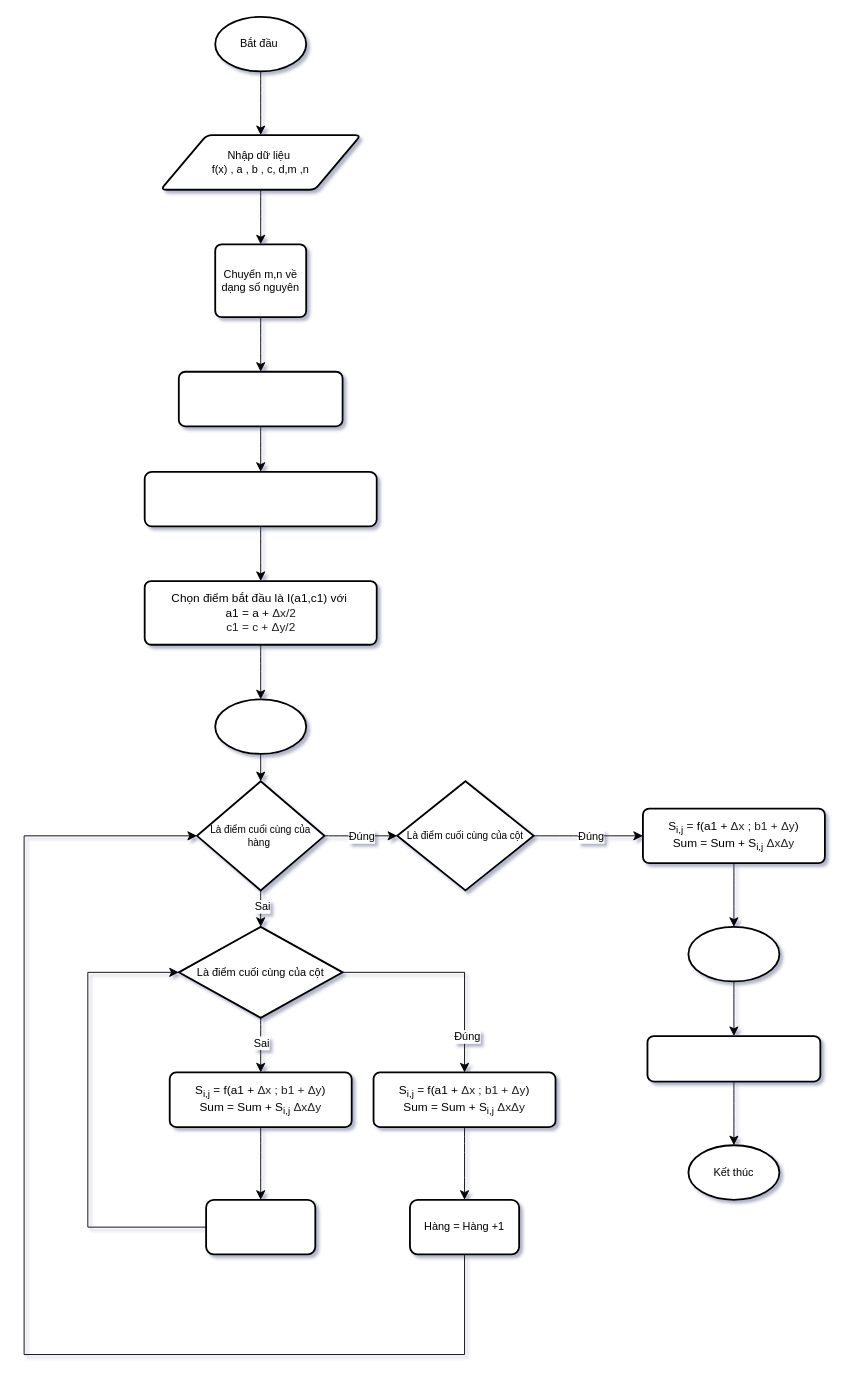
Image size: 847x1385. Some labels were removed from this diagram. Each missing label, with the centre of its shape:
Cột = Cột + 1: (260,1226)
In giá trị ra màn hình: (733,1058)
Kết thúc vòng lặp: (733,953)
Tạo khoảng chia Δx = (b-a)/m Δy = (c-d)/n: (260,498)
Tạo mảng 2 chiều S mxn: (260,398)
Vòng lặp bắt đầu: (260,726)
